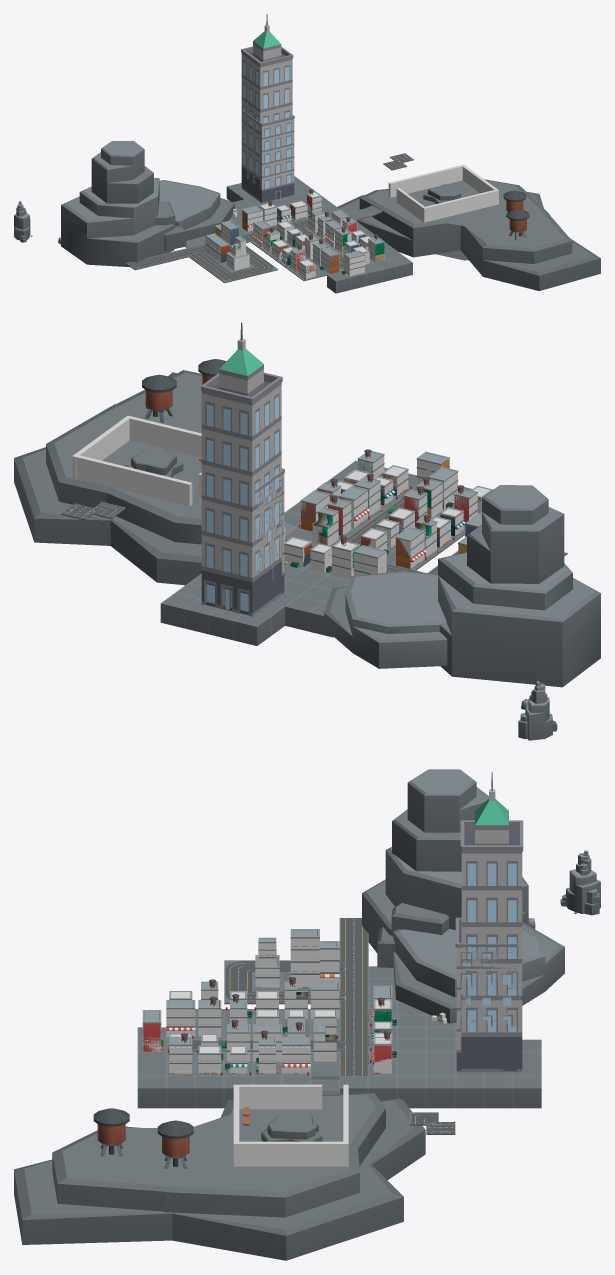
Rendered from new_city_mesh_0617.fbx.
The picture shows the model from 3 angles, top to bottom: view 1: azimuth 30°, elevation 25°; view 2: azimuth 150°, elevation 25°; view 3: azimuth 270°, elevation 25°; orthographic projection. The views are drawn at different scales.
Visible parts, largest first — view 1: Rock_1_A_Color1.001, Rock_1_D_Color1, skyscraperE, Rock_1_F_Color1, skyscraperE.001, Rock_1_G_Color1, 立方体.043, 立方体.044, Rock_1_B_Color1, building_H, Rock_1_Q_Color1, Rock_1_A_Color1.002 (+5 smaller); view 2: skyscraperE, Rock_1_A_Color1.001, Rock_1_D_Color1, Rock_1_G_Color1, Rock_1_F_Color1, 立方体.044, 立方体.043, skyscraperE.001, Rock_1_Q_Color1, 立方体.041, watertower, Rock_1_A_Color1.002 (+11 smaller); view 3: Rock_1_A_Color1.001, skyscraperE, Rock_1_G_Color1, Rock_1_F_Color1, Rock_1_D_Color1, skyscraperE.001, 立方体.041, 立方体.042, Rock_1_B_Color1, Rock_1_Q_Color1, Rock_1_A_Color1.002, watertower.001 (+16 smaller).
Part boxes in pixels (<box>): Rock_1_A_Color1.001: <box>337,179,600,291</box>; Rock_1_D_Color1: <box>61,178,174,267</box>; skyscraperE: <box>241,14,293,201</box>; Rock_1_F_Color1: <box>91,140,153,203</box>; skyscraperE.001: <box>242,110,294,203</box>; Rock_1_G_Color1: <box>159,180,234,240</box>; 立方体.043: <box>423,190,497,222</box>; 立方体.044: <box>388,165,463,197</box>; Rock_1_B_Color1: <box>155,201,186,250</box>; building_H: <box>204,220,239,263</box>; Rock_1_Q_Color1: <box>14,201,32,242</box>; Rock_1_A_Color1.002: <box>423,184,463,203</box>; skyscraperE: <box>201,322,282,616</box>; Rock_1_A_Color1.001: <box>14,370,202,585</box>; Rock_1_D_Color1: <box>438,552,600,687</box>; Rock_1_G_Color1: <box>324,571,447,668</box>; Rock_1_F_Color1: <box>467,485,564,583</box>; 立方体.044: <box>75,455,192,506</box>; 立方体.043: <box>129,416,201,457</box>; skyscraperE.001: <box>254,468,284,594</box>; Rock_1_Q_Color1: <box>518,681,557,740</box>; 立方体.041: <box>72,415,131,478</box>; watertower: <box>142,374,176,422</box>; Rock_1_A_Color1.002: <box>124,446,183,477</box>; Rock_1_A_Color1.001: <box>14,1092,425,1260</box>; skyscraperE: <box>460,772,523,1072</box>; Rock_1_G_Color1: <box>393,923,564,1023</box>; Rock_1_F_Color1: <box>392,769,488,871</box>; Rock_1_D_Color1: <box>362,847,528,952</box>; skyscraperE.001: <box>455,917,517,1072</box>; 立方体.041: <box>234,1141,348,1166</box>; 立方体.042: <box>234,1084,322,1109</box>; Rock_1_B_Color1: <box>377,902,449,967</box>; Rock_1_Q_Color1: <box>560,850,600,915</box>; Rock_1_A_Color1.002: <box>261,1114,322,1141</box>; watertower.001: <box>93,1108,129,1156</box>.
Size of the model in its own units: 5624 by 2471 by 4068.
186 materials, 174 textured.
